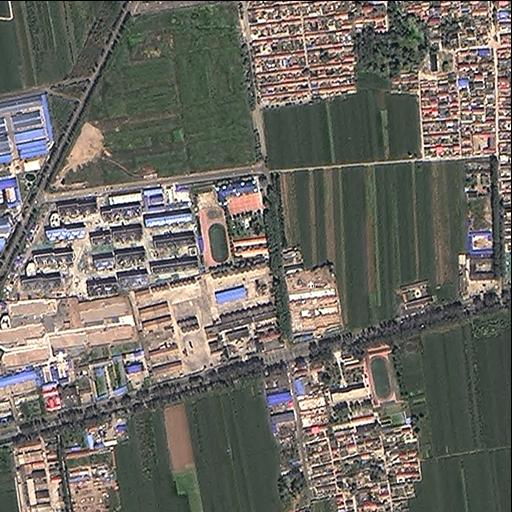school: (189, 171, 266, 269), (325, 341, 399, 430)
